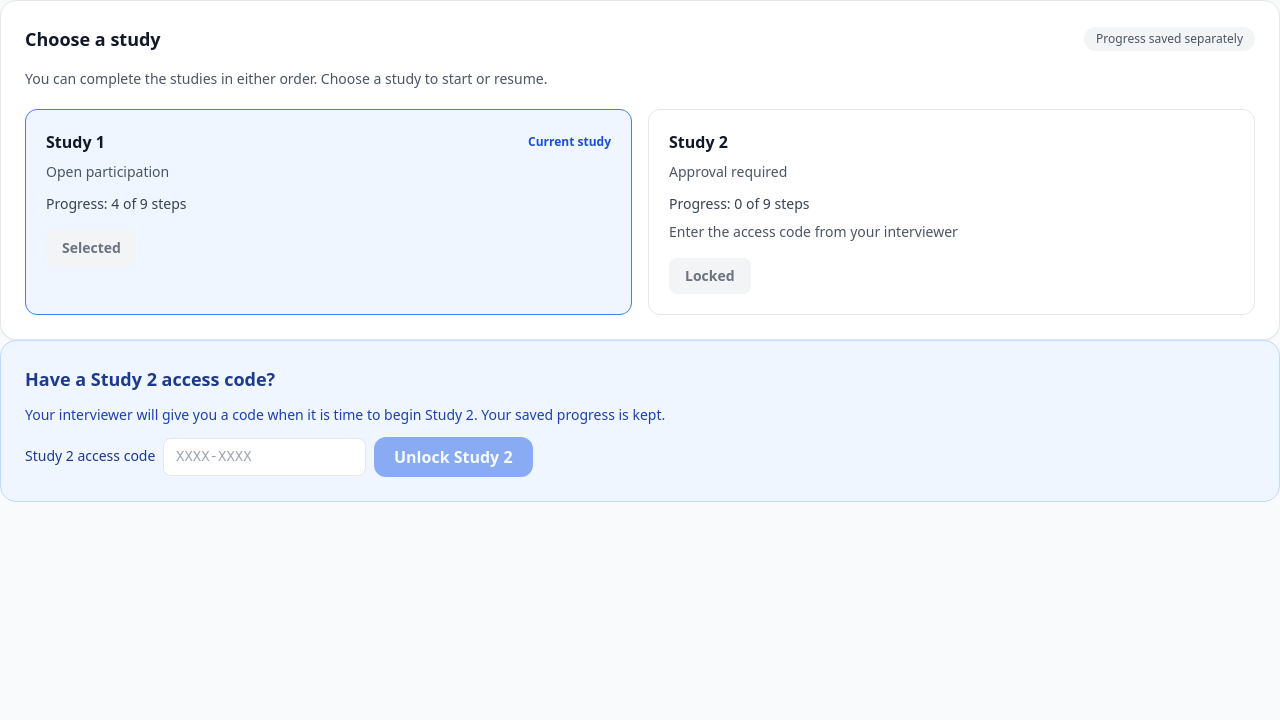
Test: an invalid access code shows the server message and stays retryable
Type "WRONG" into the field labelled "Study 2 access code".
click(264, 457); type("WRONG")  # box [163,438,366,476]
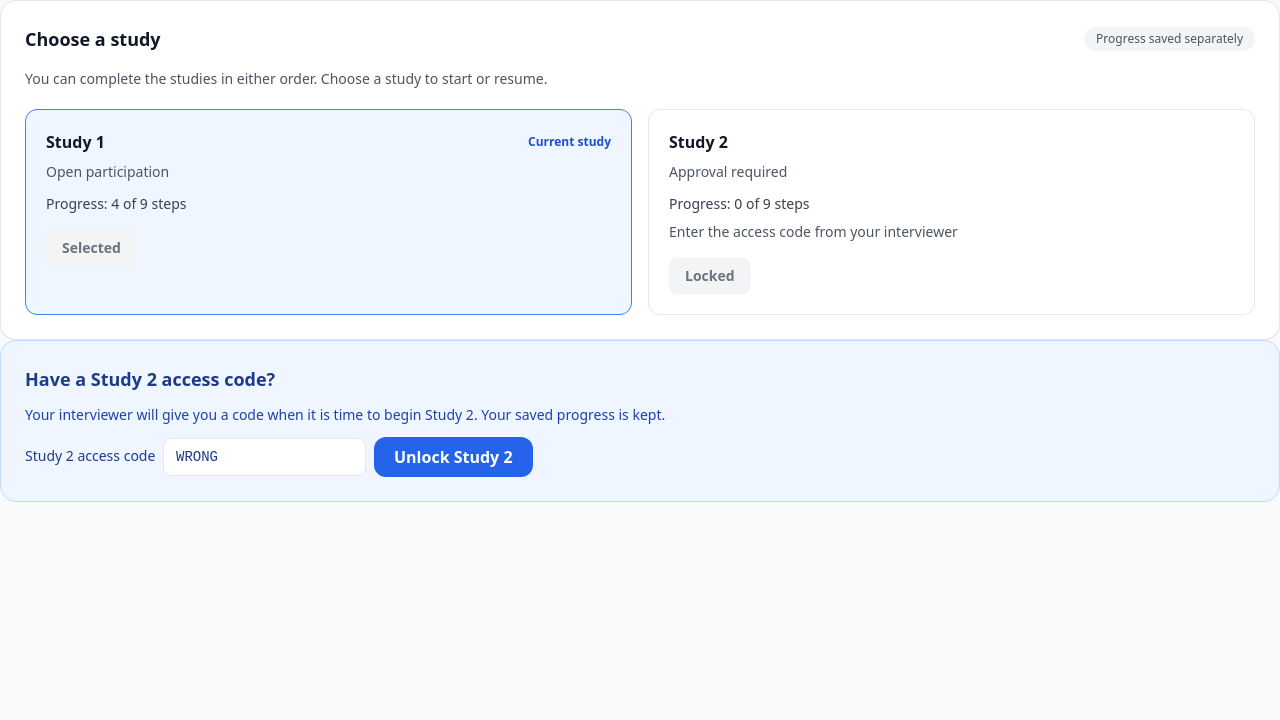
Click the button "Unlock Study 2".
click(453, 457)  # box [374,437,532,477]
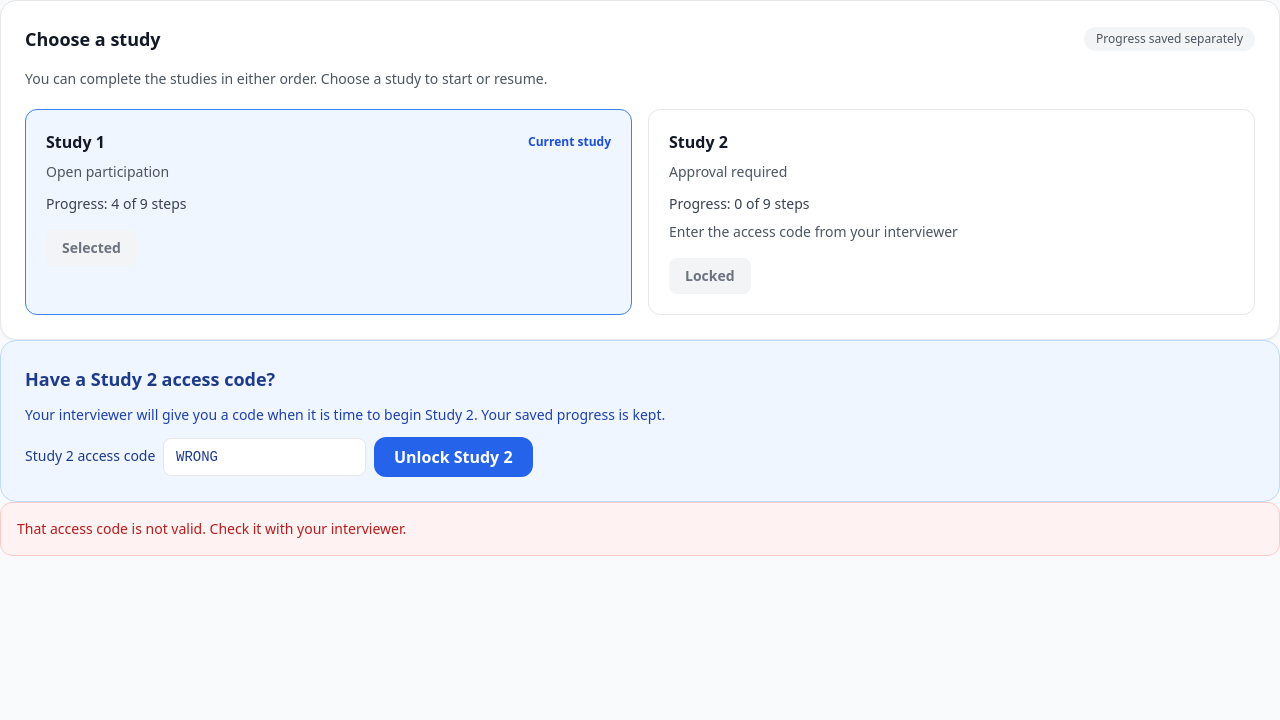
Expected: the button "Unlock Study 2" is enabled, [374,437,532,477]
Expected: the message shows "not valid", [17,519,406,538]
